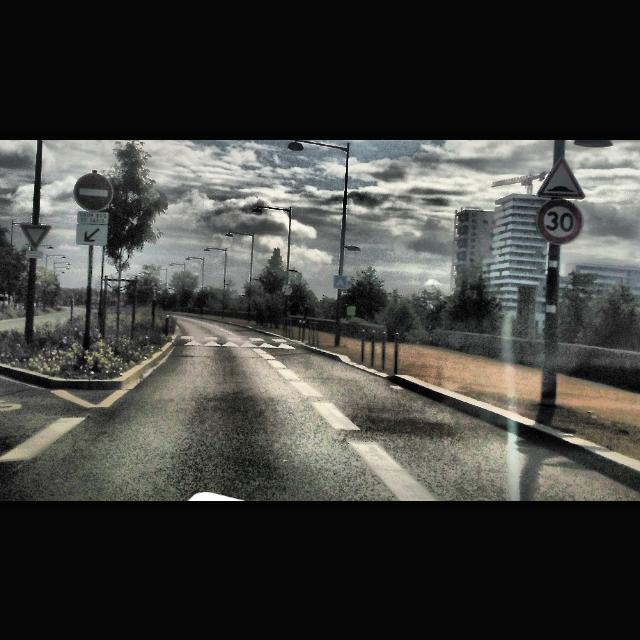speed_30: (538, 199, 582, 243)
